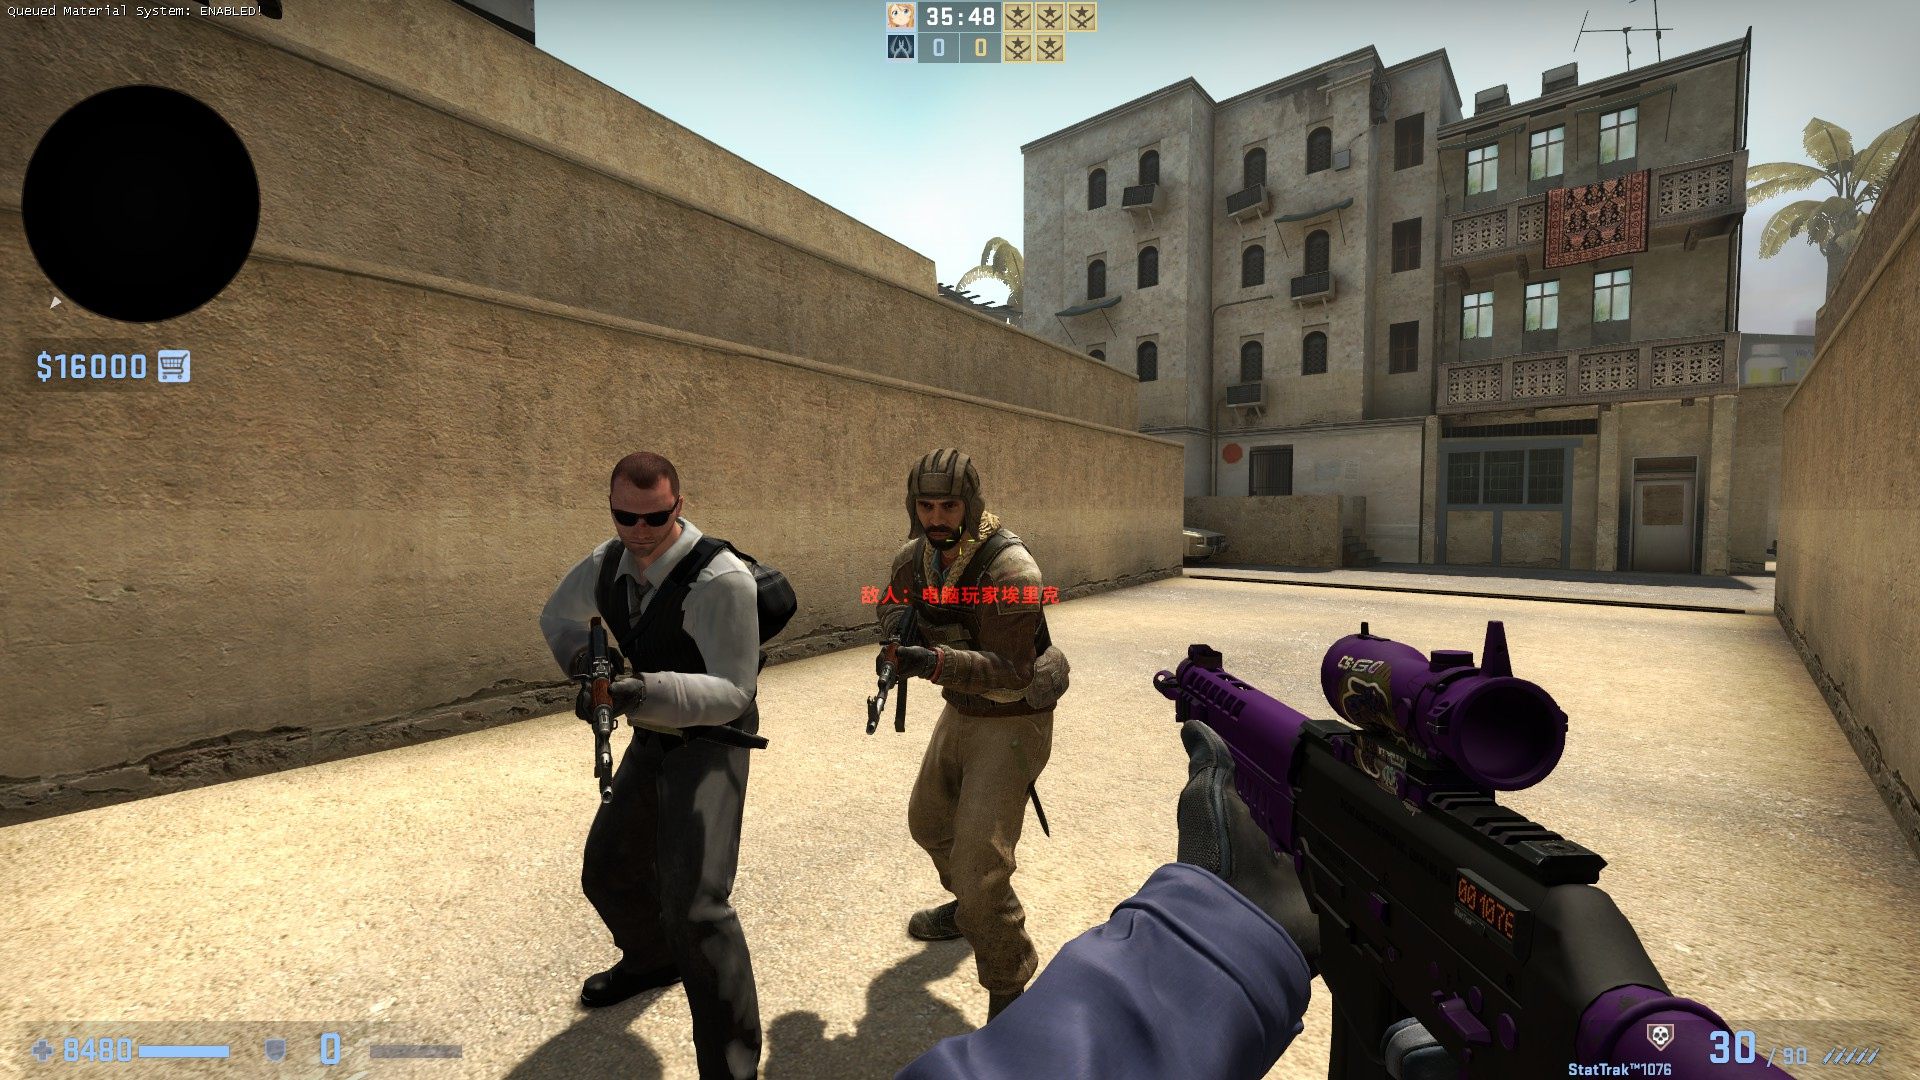head: (603, 447, 677, 558), (900, 447, 975, 552)
